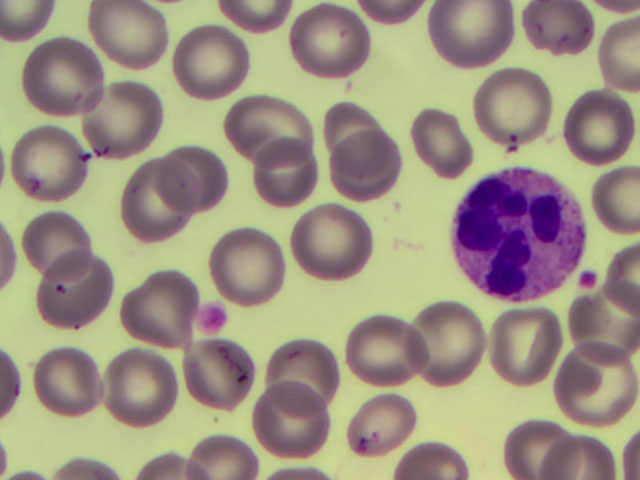Platelets: (196, 299, 232, 333), (579, 267, 600, 292)
RBC: (499, 400, 574, 480), (26, 35, 101, 114), (88, 82, 163, 161), (14, 122, 89, 201), (15, 202, 90, 281), (39, 254, 114, 333), (37, 342, 112, 421), (102, 345, 177, 424), (125, 268, 200, 347), (119, 161, 194, 240), (152, 140, 227, 219), (232, 92, 307, 171), (178, 30, 253, 109), (92, 1, 167, 80), (244, 138, 319, 217), (319, 90, 394, 169), (329, 131, 404, 210), (292, 4, 367, 83), (411, 100, 486, 179), (476, 70, 551, 149), (439, 3, 514, 82), (561, 91, 636, 170), (565, 294, 640, 373), (565, 346, 640, 425), (489, 308, 564, 387), (411, 302, 486, 381), (334, 311, 409, 390), (265, 326, 340, 405), (257, 384, 332, 463), (178, 342, 253, 421), (342, 383, 417, 462), (526, 1, 601, 79)
WBC: (454, 168, 577, 301)
